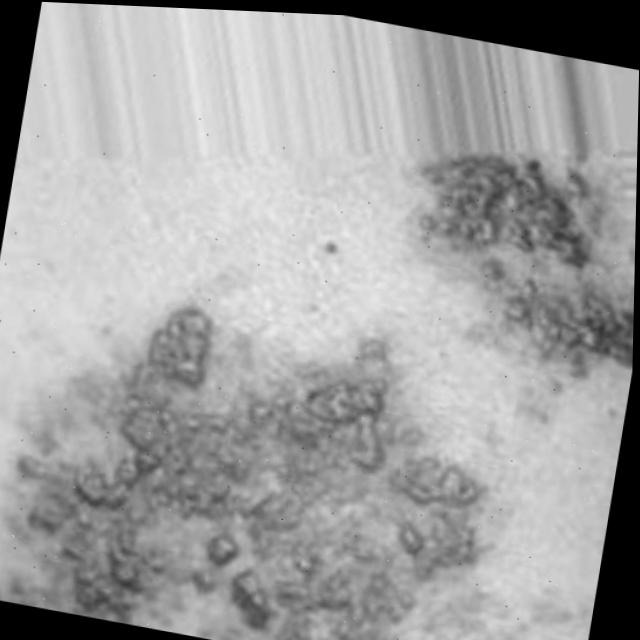Shingles: (0, 273, 515, 640), (389, 132, 637, 384)
